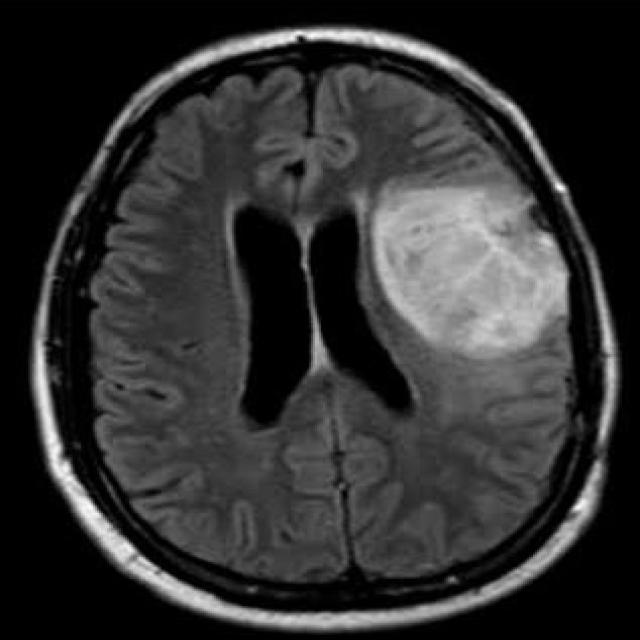tumor: (368, 178, 566, 361)
